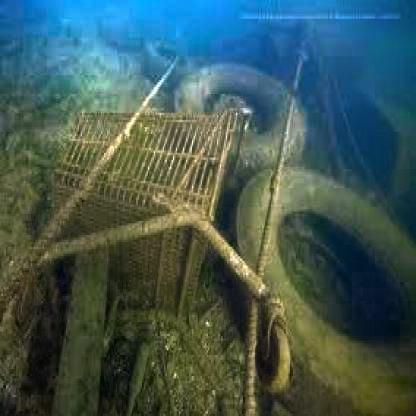metal: (44, 99, 256, 341)
tire: (239, 167, 416, 416), (164, 44, 312, 224)
